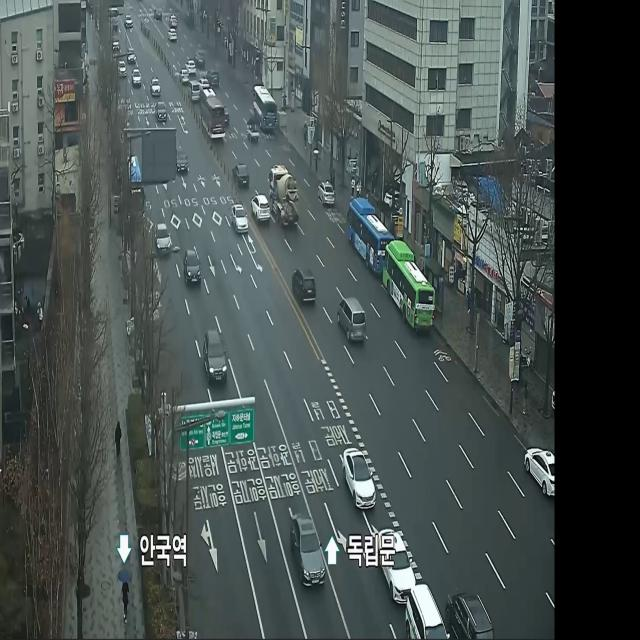car: (382, 224, 437, 345), (344, 186, 396, 281), (197, 84, 226, 146), (252, 77, 279, 136)
motorcycle: (290, 506, 327, 598), (342, 438, 377, 514), (522, 431, 555, 510), (336, 288, 368, 349), (200, 327, 230, 389), (290, 260, 318, 312), (180, 246, 203, 287), (152, 219, 174, 260), (251, 188, 272, 227), (316, 176, 337, 211), (230, 200, 249, 238), (231, 158, 250, 191), (174, 145, 189, 175), (155, 98, 168, 124)
